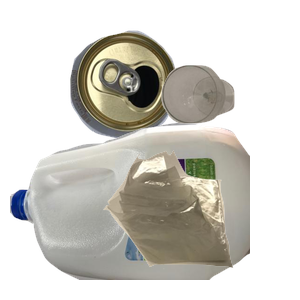glass: (159, 63, 300, 179)
metal: (68, 28, 237, 159)
plastic: (10, 120, 250, 300)
trash: (101, 148, 300, 300)
